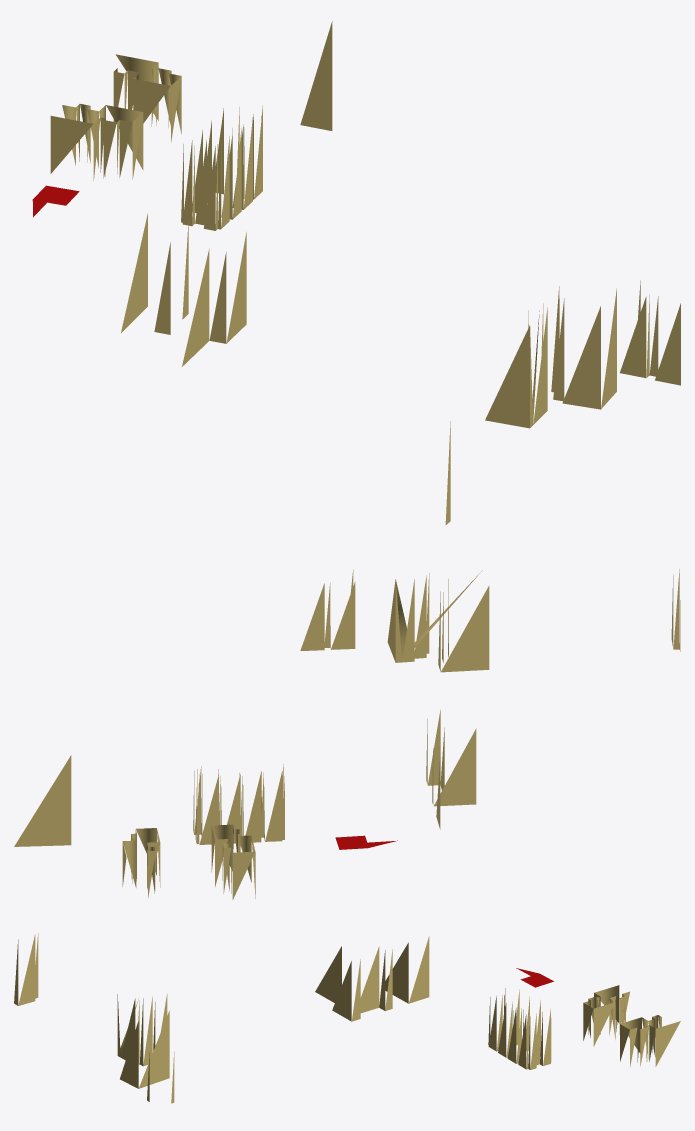
The picture shows the model from 3 angles, top to bottom: view 1: azimuth 30°, elevation 25°; view 2: azimuth 150°, elevation 25°; view 3: azimuth 270°, elevation 25°; orthographic projection. The views are drawn at different scales.
Bounding box in the file's own units: 301 × 80 × 661.
